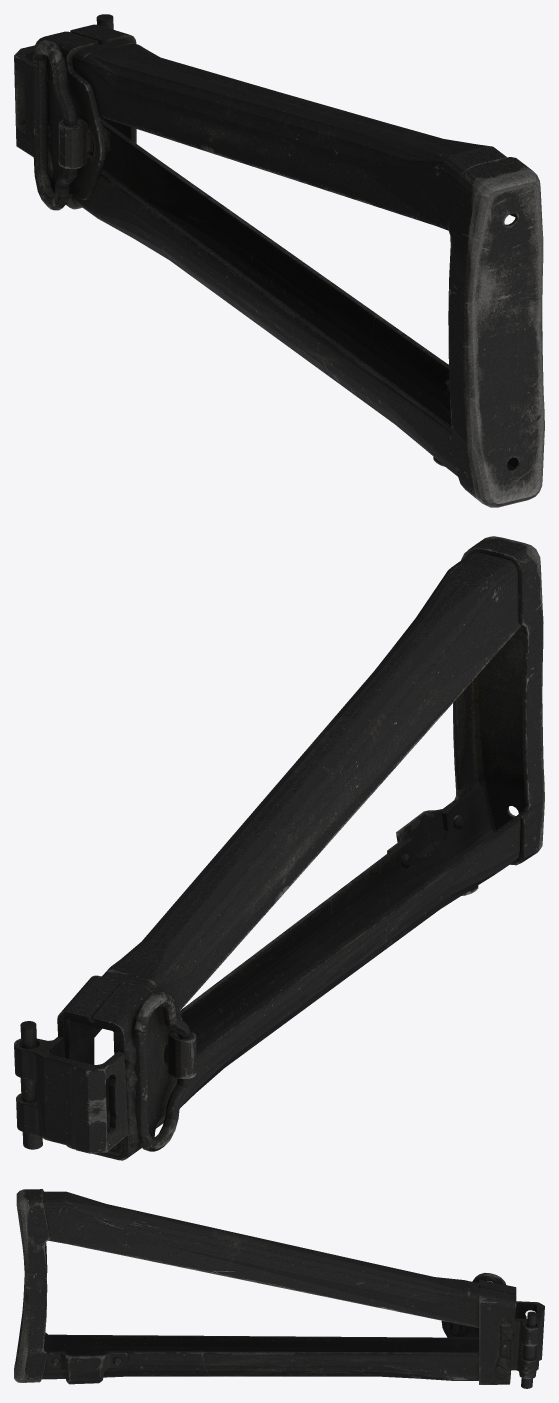
The picture shows the model from 3 angles, top to bottom: view 1: azimuth 30°, elevation 25°; view 2: azimuth 150°, elevation 25°; view 3: azimuth 270°, elevation 25°; orthographic projection. The views are drawn at different scales.
Parts seen in each view (by area): view 1: TW_599851db86f77467372f0a18_PZ_Import; view 2: TW_599851db86f77467372f0a18_PZ_Import; view 3: TW_599851db86f77467372f0a18_PZ_Import.
Boxes of the visible parts, x1,y1,x2,y2 form: TW_599851db86f77467372f0a18_PZ_Import: (14,14,544,507); TW_599851db86f77467372f0a18_PZ_Import: (14,536,544,1160); TW_599851db86f77467372f0a18_PZ_Import: (14,1189,544,1388).
Size of the model in its own units: 0.022 by 0.1463 by 0.0559.
1 material, 1 textured.
